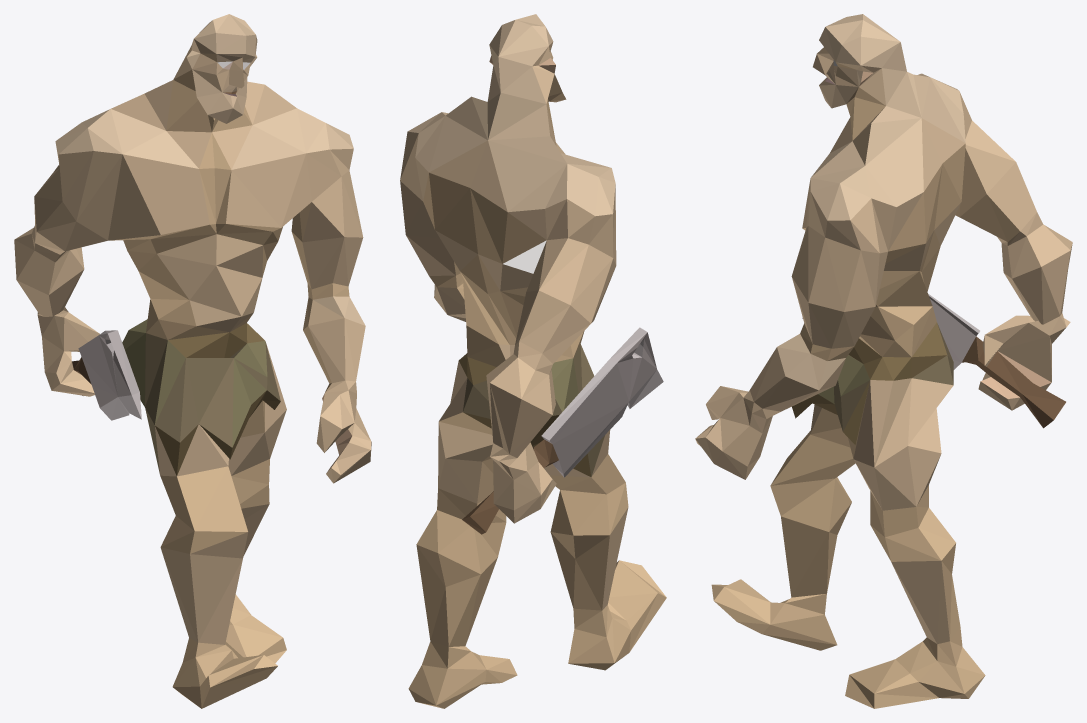
The model's file is hill_giant.gltf.
3 renders of one model, left to right at view 1: azimuth 30°, elevation 25°; view 2: azimuth 150°, elevation 25°; view 3: azimuth 270°, elevation 25°, orthographic.
Size of the model in its own units: 139 by 348 by 180.
2 materials, 2 textured.
